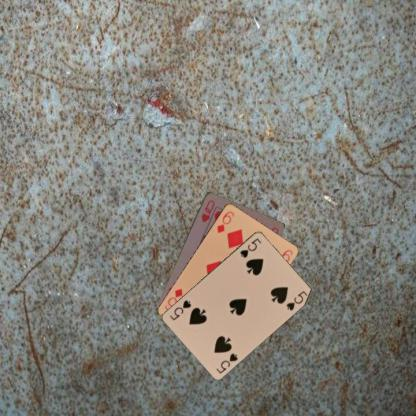5s: (214, 350, 239, 375), (238, 235, 262, 259)
6d: (214, 208, 235, 234)
Qh: (199, 197, 216, 223)
